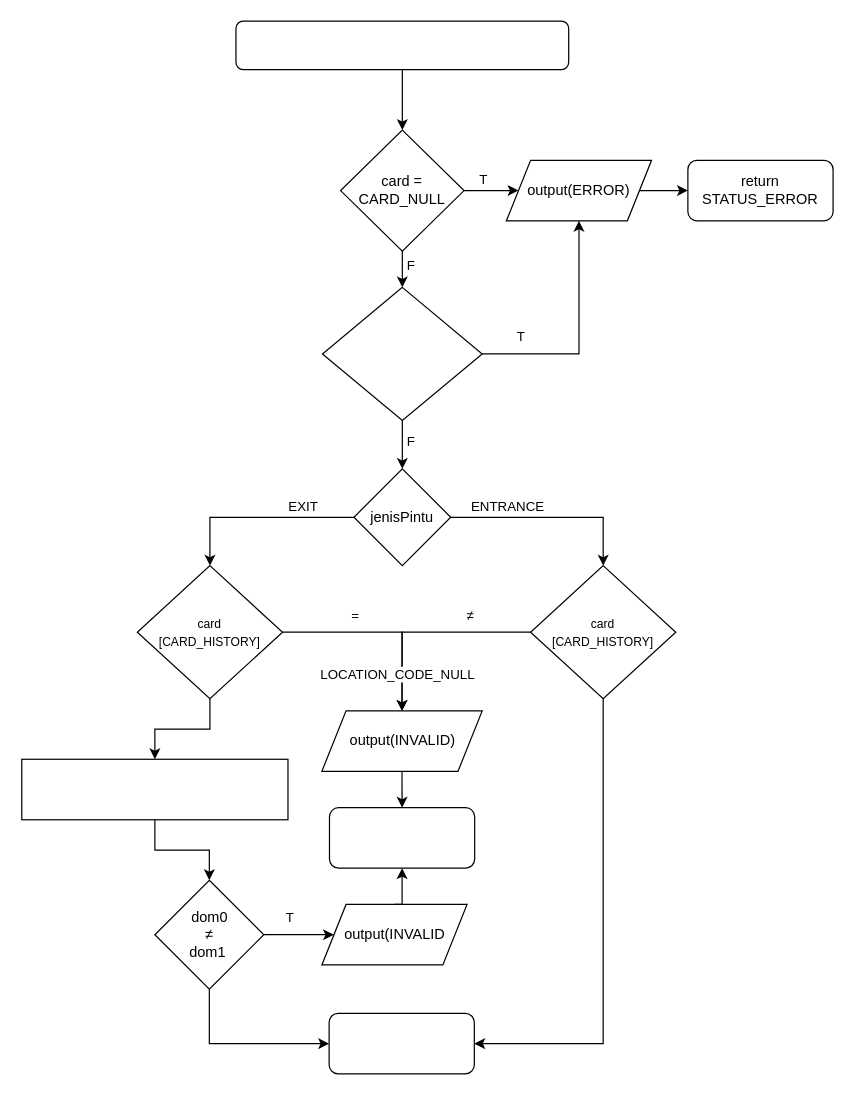
Some shapes in this 854 by 1095 pixel diagram are drawn without their labels. The centre of each missing label's shape, as x and y in pixels:
"card[CARD_STATUS] = -1" goes at pixel 401 353.
"card_verificator(card, locationCode, jenisPintu)" goes at pixel 402 45.
"dom0 ← card[CARD_HISTORY] / MAX_LOCAL dom1 ← locationCode / MAX_LOCAL" goes at pixel 154 789.
"return STATUS_INVALID" goes at pixel 401 837.
"return STATUS_VALID" goes at pixel 401 1043.
